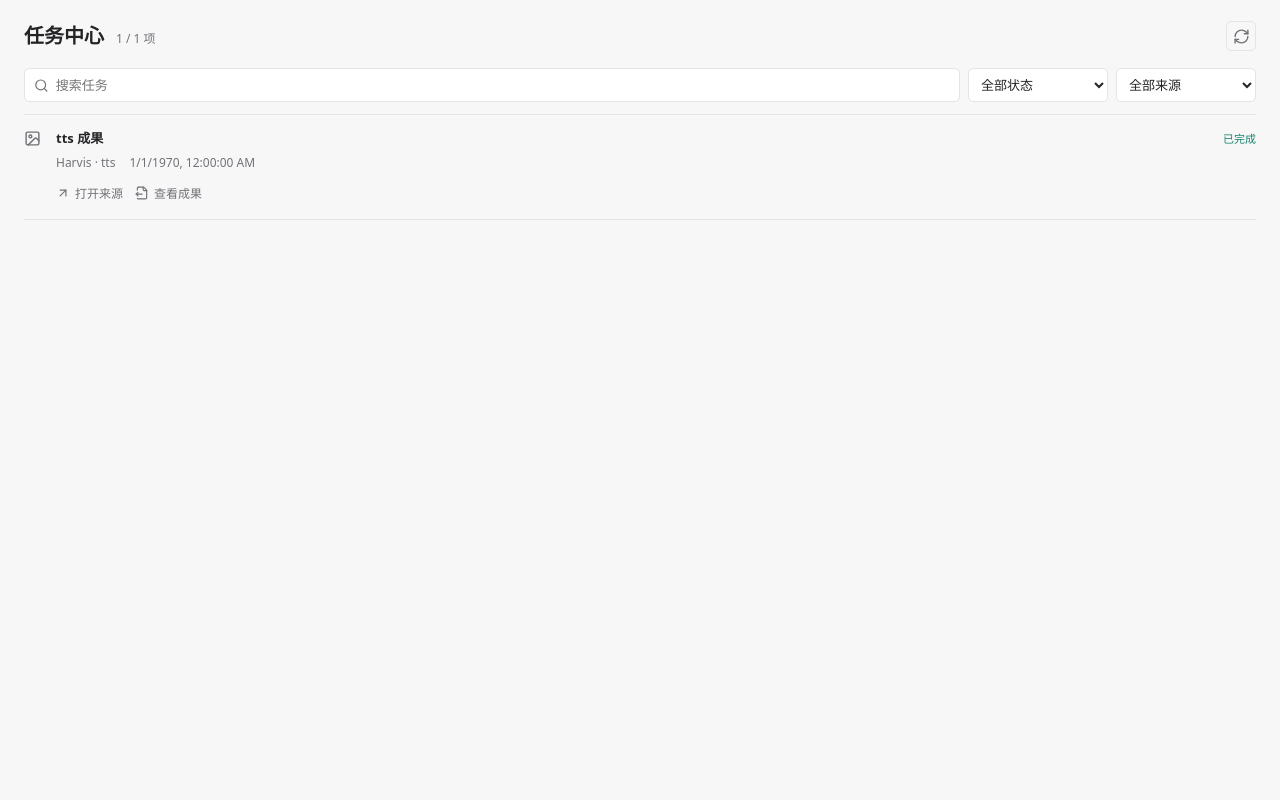
Test: TaskCenter video and TTS local result access › previews the existing tts with native controls without unsupported App navigation or a submit
The image size is (1280, 800).
Click the button "查看成果". click: [168, 193]
box: [135,180,202,206]
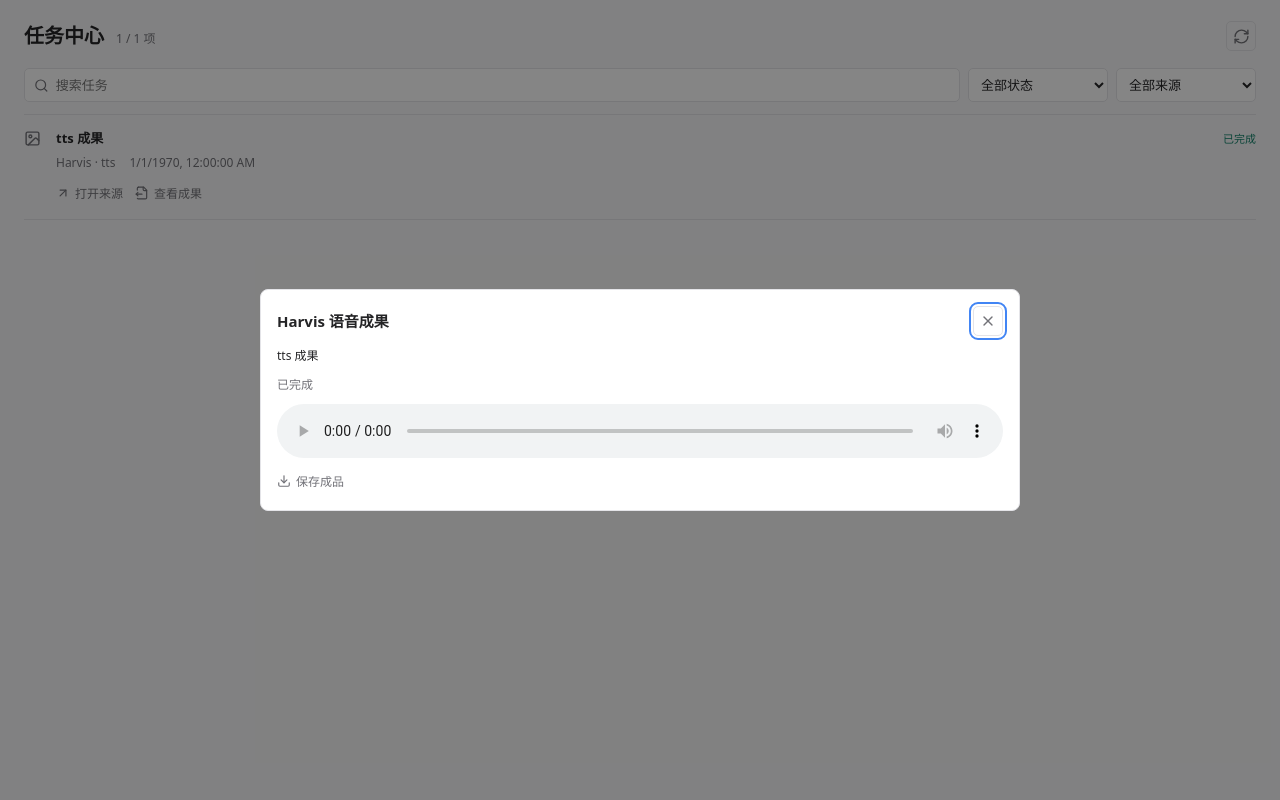
Press Escape
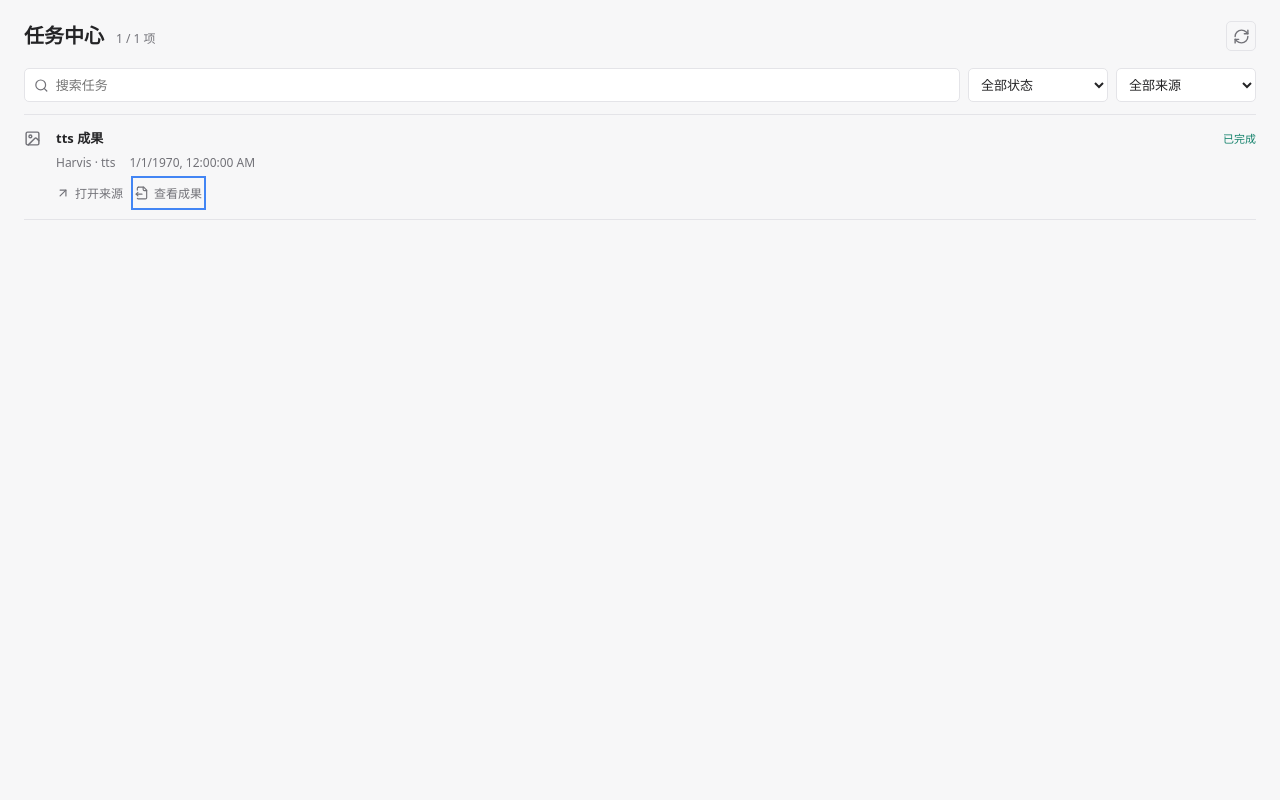
Expected: the dialog is gone
